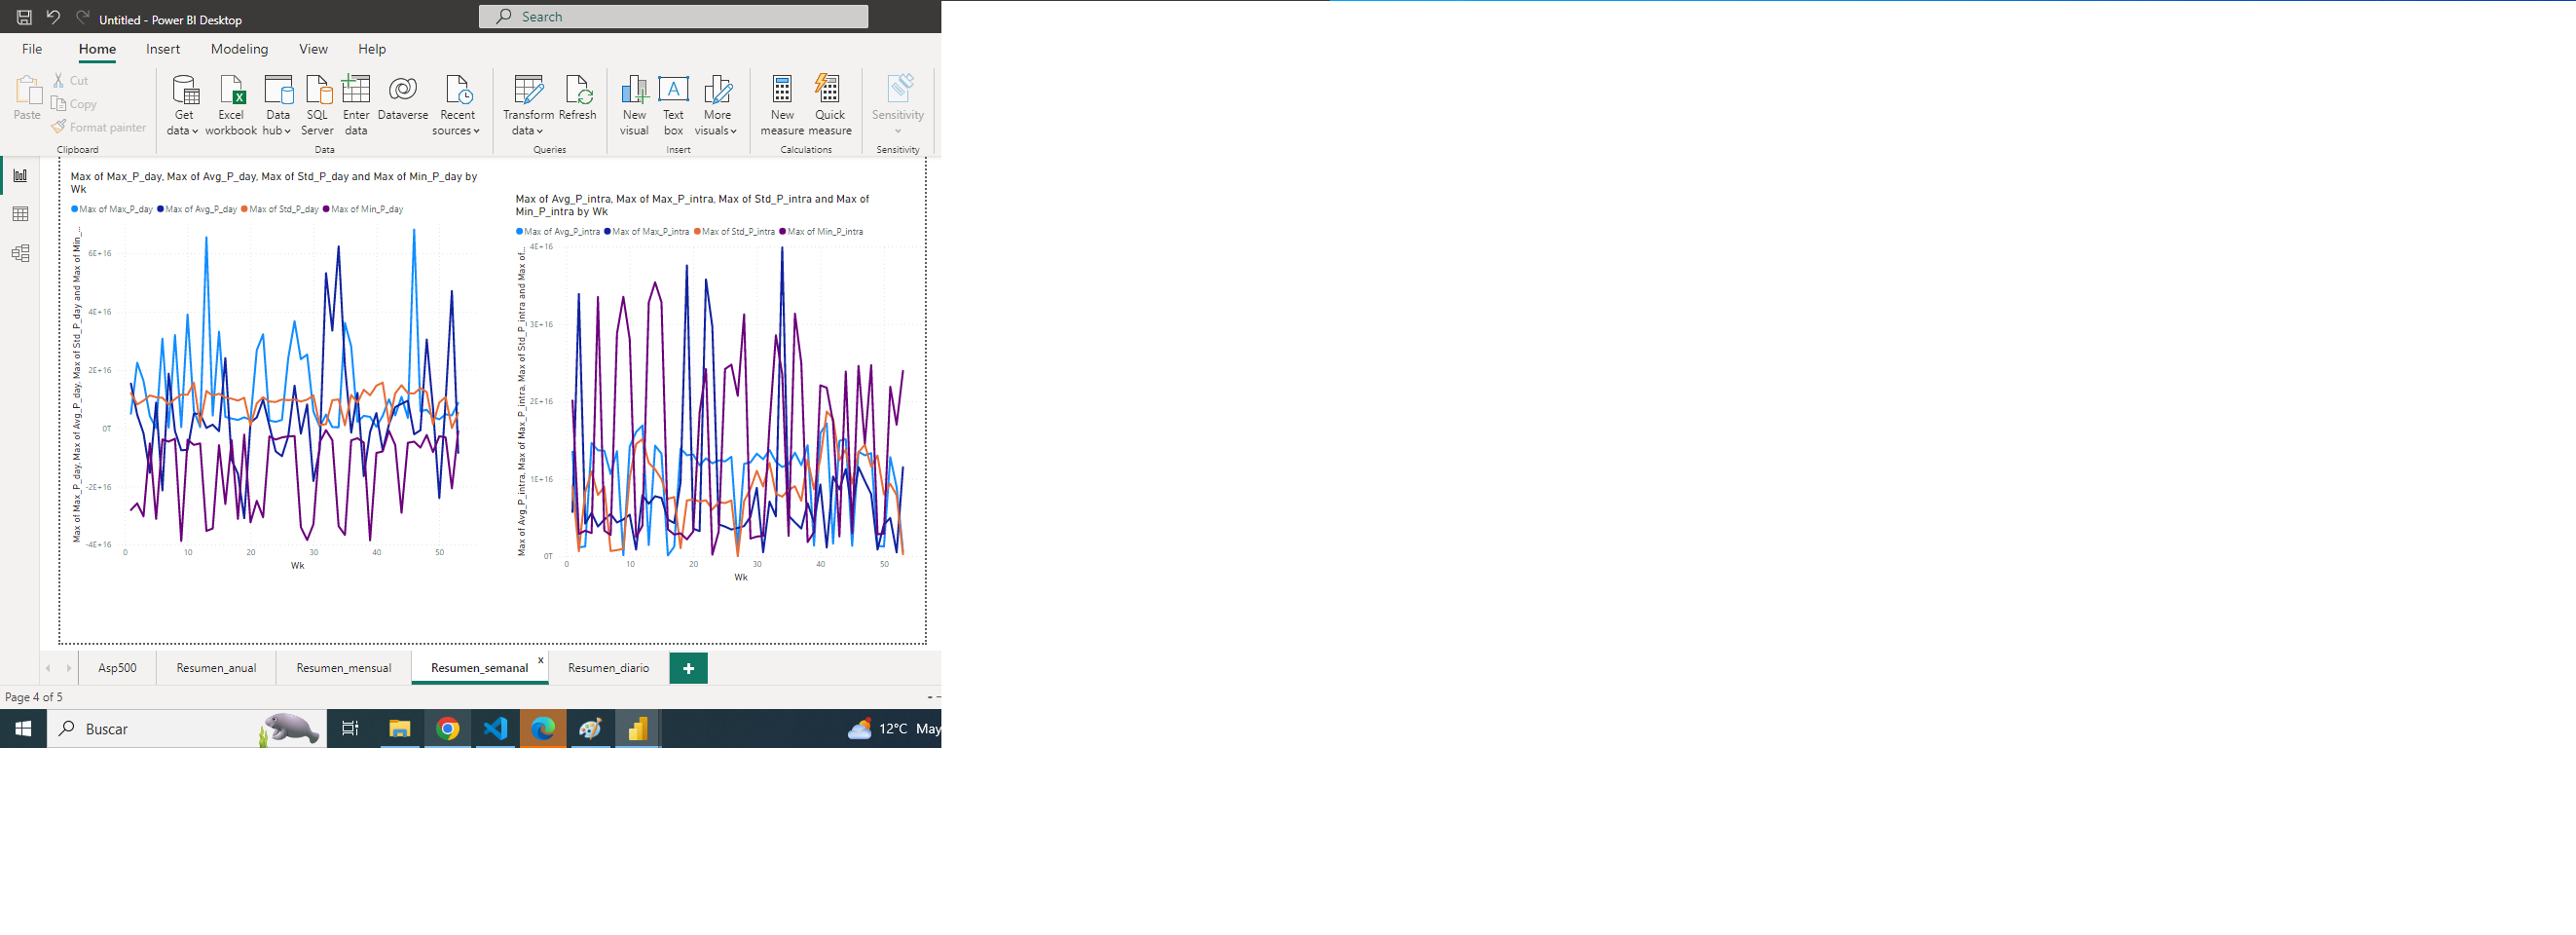

Layout of this report page (visuals, bound fields, positions):
{"tool":"powerbi","page":{"name":"Resumen_semanal","canvas":[1280,720],"ordinal":3},"visuals":[{"type":"lineChart","fields":{"Category":["Resumen_semanal.Wk"],"Y":["Max(Resumen_semanal.Max_P_day)","Max(Resumen_semanal.Avg_P_day)","Max(Resumen_semanal.Std_P_day)","Max(Resumen_semanal.Min_P_day)"]},"box":[10.1,20.2,612,597.6],"z":0},{"type":"lineChart","fields":{"Category":["Resumen_semanal.Wk"],"Y":["Max(Resumen_semanal.Avg_P_intra)","Max(Resumen_semanal.Max_P_intra)","Max(Resumen_semanal.Std_P_intra)","Max(Resumen_semanal.Min_P_intra)"]},"box":[668.2,53.3,612,581.8],"z":1}]}

Visuals, with their boxes on the page's 1280x720 design canvas (x1, y1, x2, y2). These are canvas units, not pixel positions in the 2576x935 screenshot, which may show the page scaled, cropped or inside an application window:
lineChart - Resumen_semanal.Wk x Max(Resumen_semanal.Max_P_day): 10, 20, 622, 618
lineChart - Resumen_semanal.Wk x Max(Resumen_semanal.Avg_P_intra): 668, 53, 1280, 635
